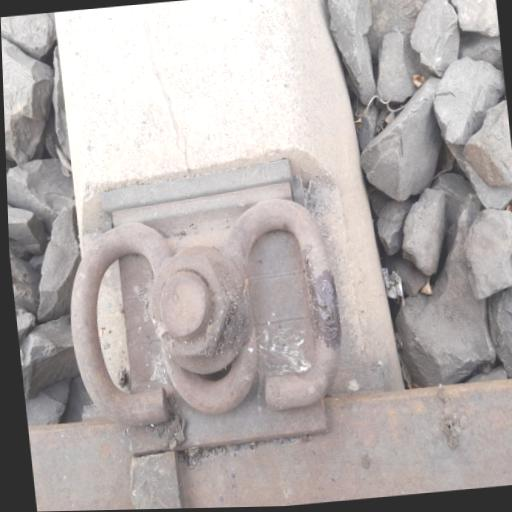bolt: (140, 246, 245, 380)
clip: (55, 149, 350, 437)
